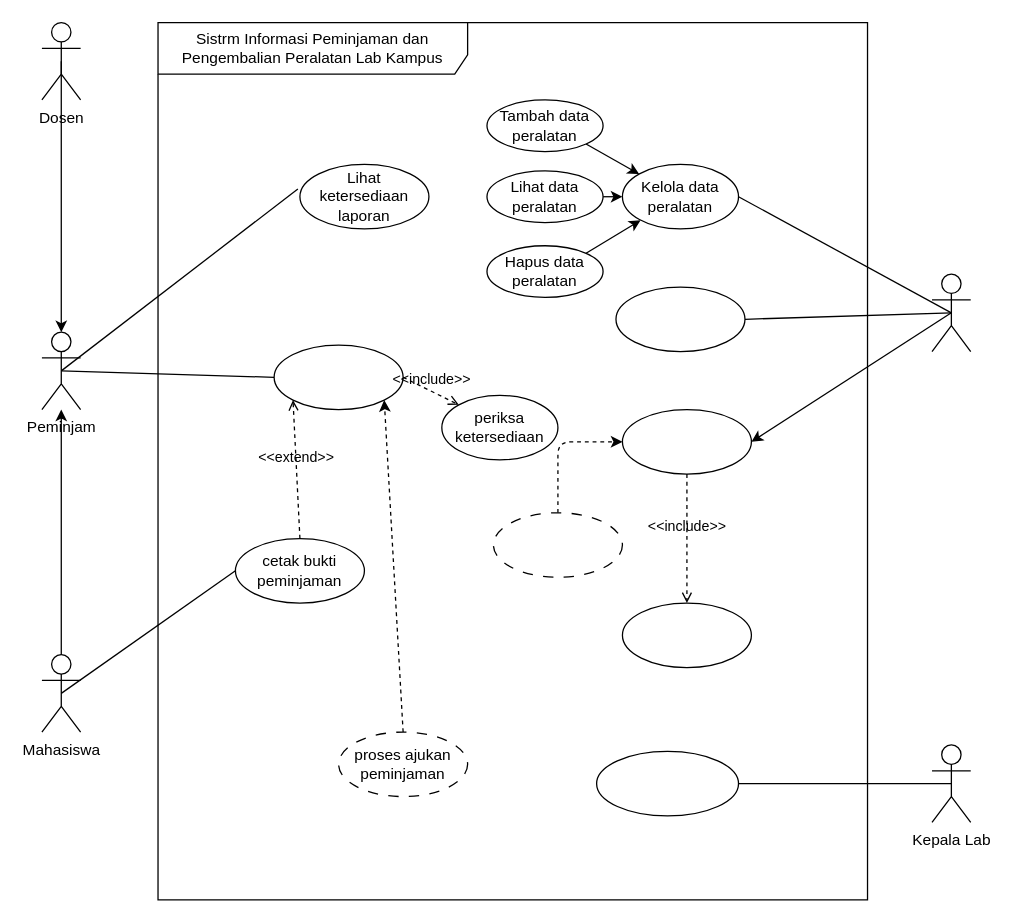
Some shapes in this 1017 by 922 pixel diagram are drawn without their labels. Here are the shapes that lost their labels. From the top down, the centre of each, then its label:
At [680,319]: "Memproses keputusan peminjaman".
At [951,312]: "Petugas Lab".
At [338,377]: "Ajukan peminjaman".
At [686,441]: "Catat pengembalian peralatan".
At [557,544]: "proses Catat pengembalian peralatan".
At [686,635]: "periksa kondisi peralatan".
At [667,783]: "Melihat Laporan Peminjaman".
